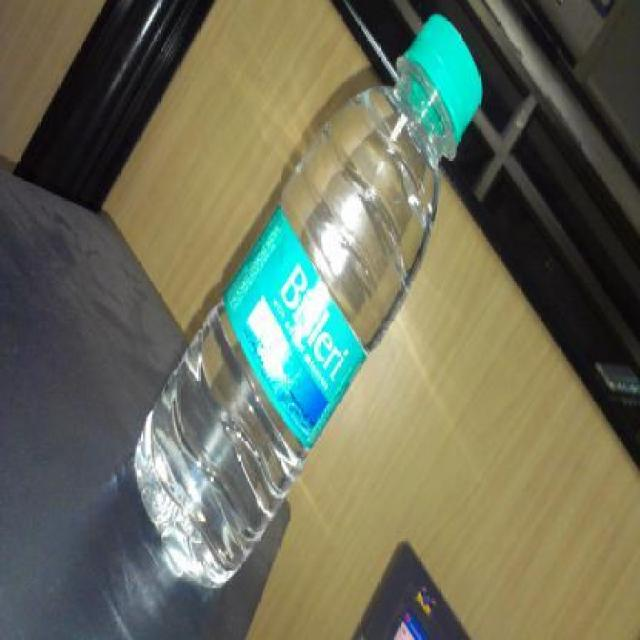bottle: (118, 14, 480, 585)
